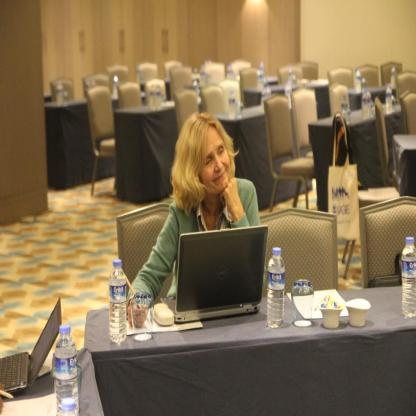board: (154, 204, 277, 326), (0, 296, 62, 394), (54, 323, 80, 416), (110, 256, 127, 344), (267, 247, 284, 327), (400, 236, 416, 315), (260, 81, 270, 114), (340, 93, 348, 119), (366, 89, 372, 122), (362, 90, 368, 122), (155, 84, 162, 111), (386, 84, 392, 113), (229, 92, 235, 120), (57, 79, 63, 107), (391, 67, 397, 91), (150, 84, 155, 111), (356, 67, 361, 92), (226, 63, 232, 79), (288, 65, 293, 81), (293, 75, 297, 91)
